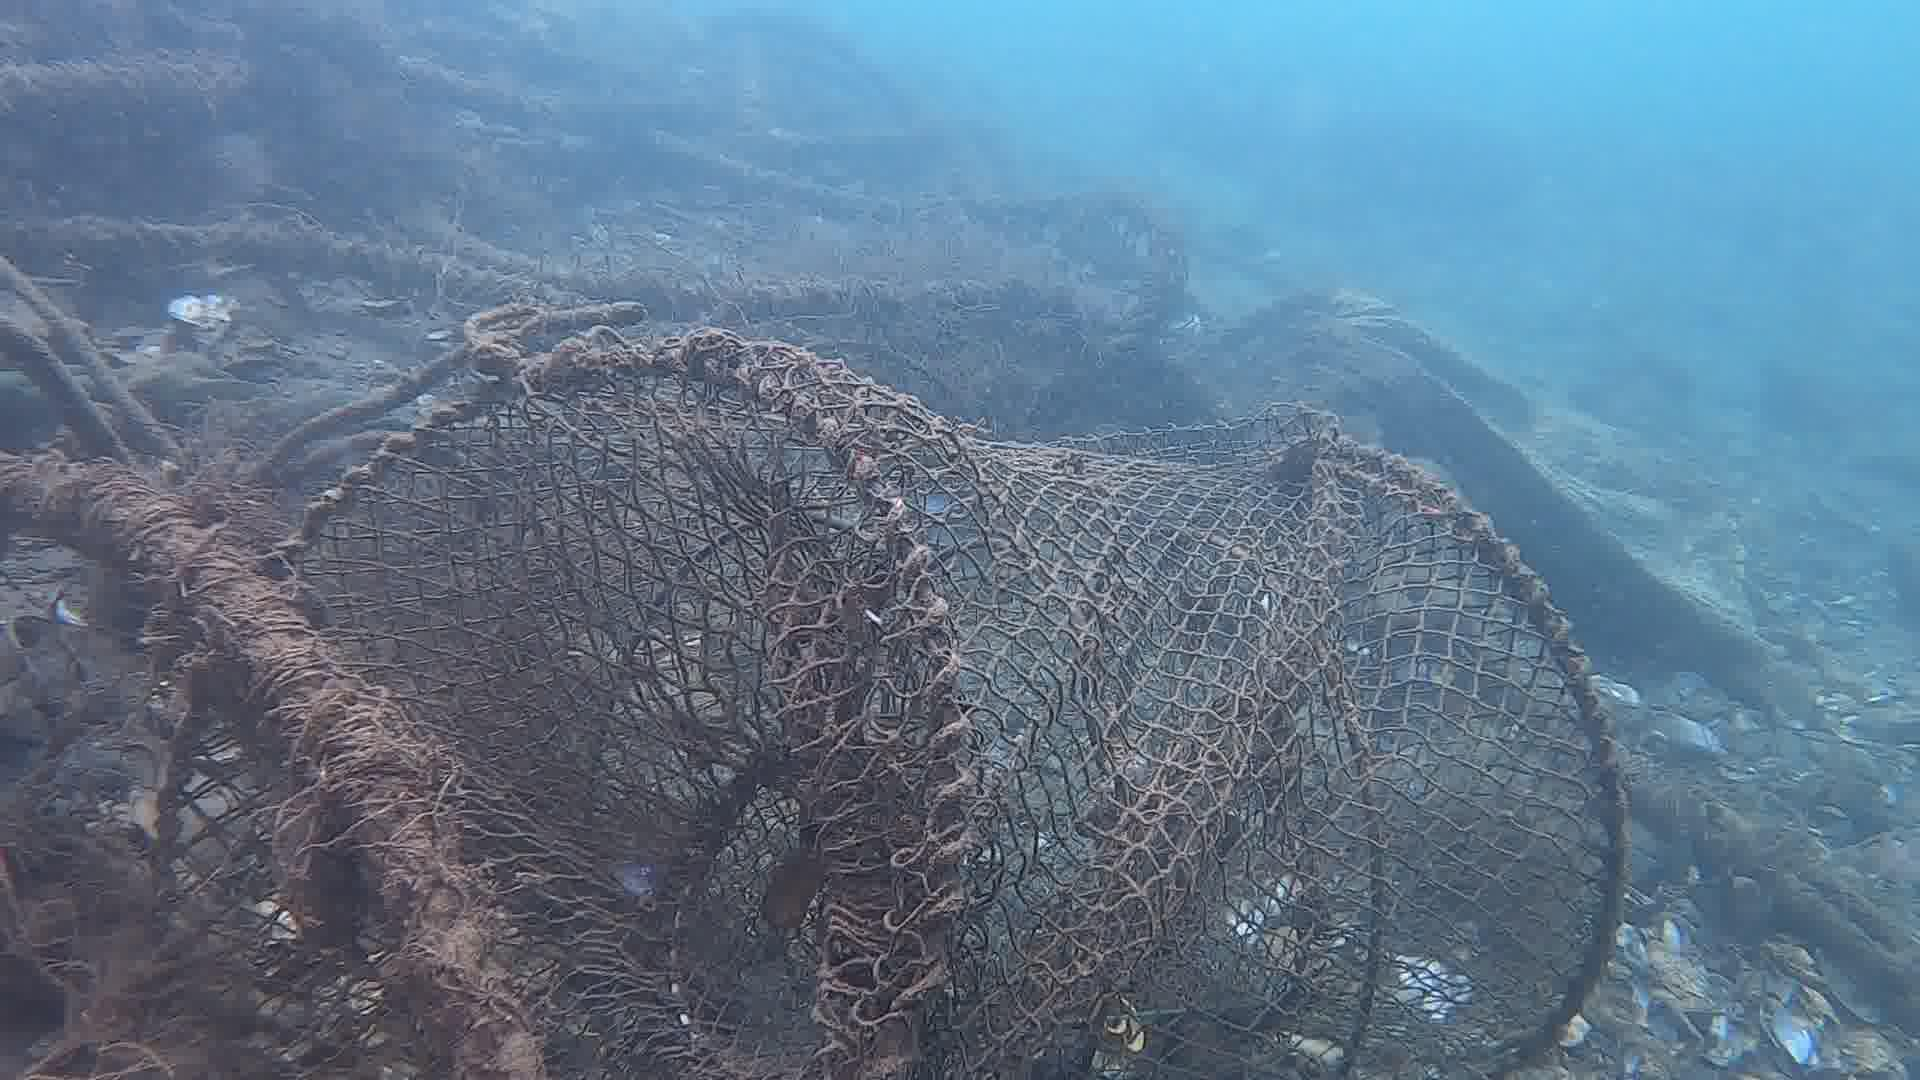spring fish trap: (146, 334, 1618, 1080)
